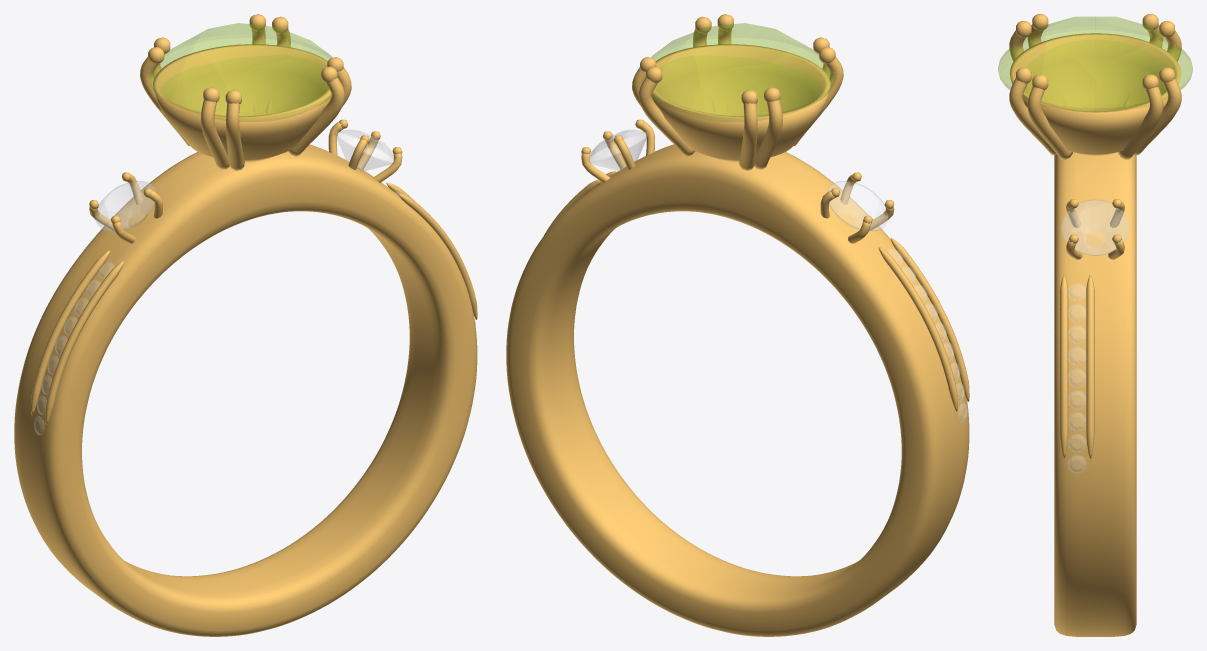
File: ring-04.glb
3 views of the same model, side by side, from view 1: azimuth 30°, elevation 25°; view 2: azimuth 150°, elevation 25°; view 3: azimuth 270°, elevation 25° (orthographic).
Visible parts, largest first — view 1: Ring_04_Band, Ring_04_Settings, Ring_04_Peridot, Ring_04_Channel_Rails, Ring_04_Diamonds, Ring_04_Channel; view 2: Ring_04_Band, Ring_04_Settings, Ring_04_Peridot, Ring_04_Diamonds, Ring_04_Channel_Rails, Ring_04_Channel; view 3: Ring_04_Band, Ring_04_Settings, Ring_04_Peridot, Ring_04_Channel_Rails, Ring_04_Diamonds, Ring_04_Channel.
Part boxes in pixels (left/top/right/bottom): Ring_04_Band: left=14, top=144, right=477, bottom=636; Ring_04_Settings: left=89, top=14, right=402, bottom=243; Ring_04_Peridot: left=149, top=23, right=332, bottom=121; Ring_04_Channel_Rails: left=31, top=182, right=477, bottom=424; Ring_04_Diamonds: left=42, top=129, right=394, bottom=417; Ring_04_Channel: left=34, top=192, right=475, bottom=434; Ring_04_Band: left=506, top=144, right=969, bottom=636; Ring_04_Settings: left=581, top=14, right=894, bottom=243; Ring_04_Peridot: left=650, top=23, right=834, bottom=121; Ring_04_Diamonds: left=589, top=129, right=961, bottom=402; Ring_04_Channel_Rails: left=544, top=170, right=969, bottom=411; Ring_04_Channel: left=600, top=182, right=967, bottom=421; Ring_04_Band: left=1054, top=152, right=1136, bottom=636; Ring_04_Settings: left=1009, top=14, right=1181, bottom=259; Ring_04_Peridot: left=998, top=16, right=1192, bottom=112; Ring_04_Channel_Rails: left=1060, top=275, right=1094, bottom=458; Ring_04_Diamonds: left=1061, top=199, right=1129, bottom=455; Ring_04_Channel: left=1067, top=283, right=1086, bottom=473.
Bounding box in the file's own units: 2.08 × 2.61 × 0.8008.
